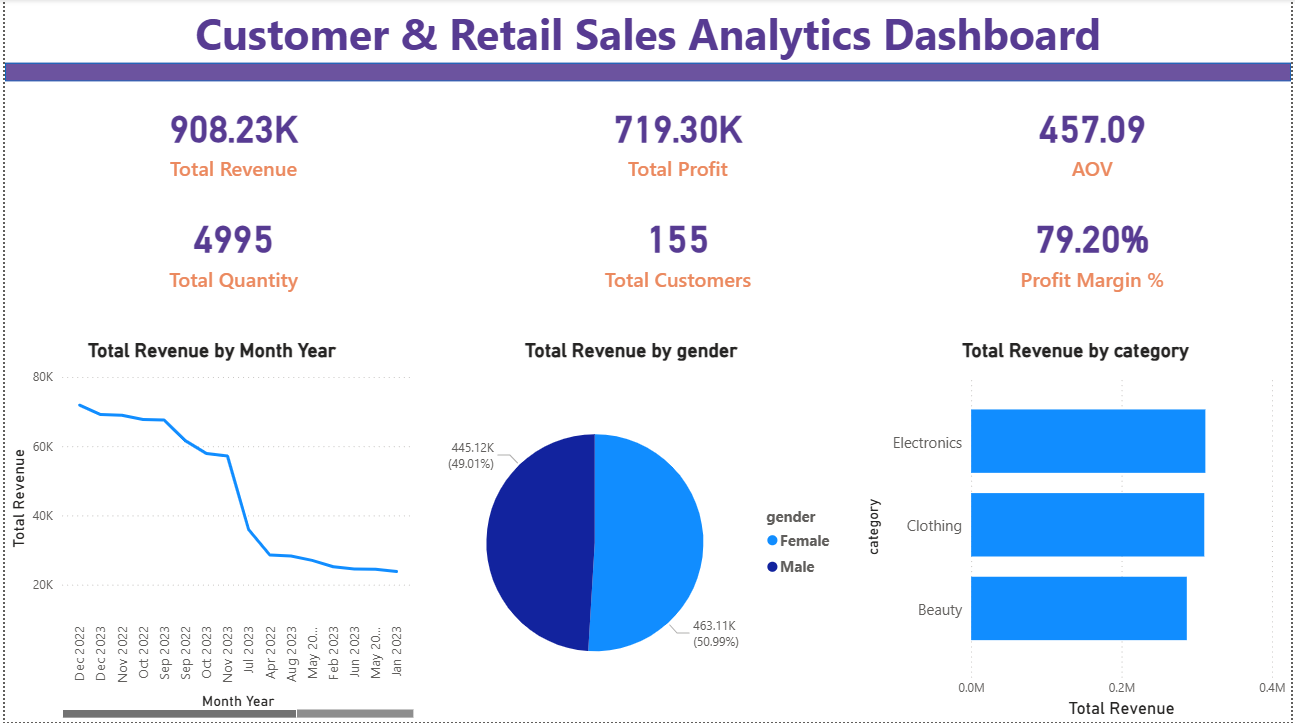

The dashboard page shown, as its layout file describes it:
{"tool":"powerbi","page":{"name":"Page 1","canvas":[1280,720],"ordinal":0},"visuals":[{"type":"card","fields":{"Values":["public retail_sales.Profit Margin %"]},"box":[884.5,196.5,395.6,105.7],"z":0},{"type":"card","fields":{"Values":["public retail_sales.Total Revenue"]},"box":[0,82.1,455.3,114.4],"z":1000},{"type":"card","fields":{"Values":["public retail_sales.Total Quantity"]},"box":[0,196.5,455.3,105.7],"z":2000},{"type":"card","fields":{"Values":["public retail_sales.AOV"]},"box":[884.5,82.1,395.6,114.4],"z":3000},{"type":"card","fields":{"Values":["public retail_sales.Total Profit"]},"box":[455.3,82.1,429.2,114.4],"z":4000},{"type":"card","fields":{"Values":["public retail_sales.Total Customers"]},"box":[455.3,196.5,429.2,105.7],"z":5000},{"type":"textbox","box":[0,0,1280,82.1],"z":6000},{"type":"shape","box":[0,63.4,1280,18.7],"z":7000},{"type":"lineChart","fields":{"Category":["public retail_sales.Month Year"],"Y":["public retail_sales.Total Revenue"]},"box":[0,338.4,411.8,381.9],"z":7001},{"type":"clusteredBarChart","fields":{"Category":["public retail_sales.category"],"Y":["public retail_sales.Total Revenue"]},"box":[850.9,338.4,429.2,381.9],"z":7003},{"type":"pieChart","fields":{"Category":["public retail_sales.gender"],"Y":["public retail_sales.Total Revenue"]},"box":[411.8,338.4,422.9,381.9],"z":7004}]}

Visuals, with their boxes in screenshot pixels (x1, y1, x2, y2), scaled from the page's 1280x720 canvas onto the 1295x723 screenshot:
card - public retail_sales.Profit Margin %: 895, 197, 1294, 303
card - public retail_sales.Total Revenue: 0, 82, 461, 197
card - public retail_sales.Total Quantity: 0, 197, 461, 303
card - public retail_sales.AOV: 895, 82, 1294, 197
card - public retail_sales.Total Profit: 461, 82, 895, 197
card - public retail_sales.Total Customers: 461, 197, 895, 303
textbox: 0, 0, 1294, 82
shape: 0, 64, 1294, 82
lineChart - public retail_sales.Month Year x public retail_sales.Total Revenue: 0, 340, 417, 722
clusteredBarChart - public retail_sales.category x public retail_sales.Total Revenue: 861, 340, 1294, 722
pieChart - public retail_sales.gender x public retail_sales.Total Revenue: 417, 340, 844, 722
